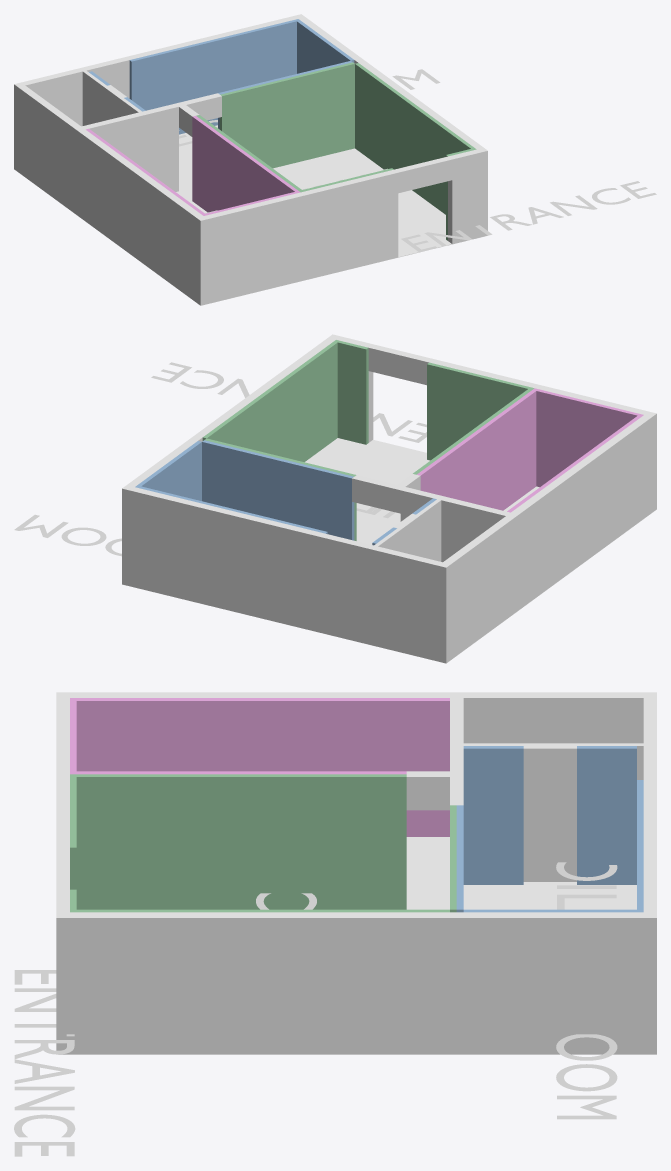
File: house.glb
3 renders of one model, top to bottom at view 1: azimuth 30°, elevation 25°; view 2: azimuth 150°, elevation 25°; view 3: azimuth 270°, elevation 25°, orthographic. The views are drawn at different scales.
Parts seen in each view (by area): view 1: Ext_Bot_KitSide, Ext_Left, Div_H_Right_Hall, Wrap_Bed_Top, Wrap_Hall_Right, Floor, Div_V_Bot_Kit, Div_H_Kit_Toilet, Ext_Top, Ext_Bot_HallSide, Text.004, Wrap_Bed_Right (+6 smaller); view 2: Ext_Top, Ext_Left, Div_H_Right_Bed, Wrap_Hall_Right, Div_V_Bot_Kit, Floor, Wrap_Kit_Bot, Wrap_Hall_Bot1, Div_H_Kit_Toilet, Wrap_Hall_Bot2, Ext_Right, Div_V_Top_Toilet (+12 smaller); view 3: Ext_Right, Div_V_Bot_Hall, Wrap_Kit_Left, Ext_Left, Div_V_Top_Bed, Div_V_Top_Bed_2, Floor, Div_V_Top_Toilet, Ext_Top, Text.004, Ext_Bot_HallSide, Ext_Bot_KitSide (+12 smaller).
Boxes of the visible parts, x1=… form: Ext_Bot_KitSide: x1=196, y1=169, x2=398, y2=305; Ext_Left: x1=14, y1=82, x2=207, y2=305; Div_H_Right_Hall: x1=220, y1=62, x2=354, y2=168; Wrap_Bed_Top: x1=129, y1=20, x2=296, y2=134; Wrap_Hall_Right: x1=355, y1=63, x2=474, y2=214; Floor: x1=14, y1=125, x2=487, y2=305; Div_V_Bot_Kit: x1=192, y1=116, x2=300, y2=212; Div_H_Kit_Toilet: x1=81, y1=103, x2=178, y2=191; Ext_Top: x1=14, y1=14, x2=304, y2=170; Ext_Bot_HallSide: x1=448, y1=148, x2=487, y2=243; Text.004: x1=401, y1=181, x2=656, y2=252; Wrap_Bed_Right: x1=295, y1=19, x2=354, y2=73; Ext_Top: x1=126, y1=486, x2=450, y2=662; Ext_Left: x1=438, y1=413, x2=656, y2=662; Div_H_Right_Bed: x1=202, y1=440, x2=354, y2=540; Wrap_Hall_Right: x1=202, y1=341, x2=337, y2=462; Div_V_Bot_Kit: x1=417, y1=388, x2=538, y2=510; Floor: x1=122, y1=438, x2=656, y2=663; Wrap_Kit_Bot: x1=536, y1=389, x2=639, y2=487; Wrap_Hall_Bot1: x1=427, y1=362, x2=530, y2=460; Div_H_Kit_Toilet: x1=400, y1=487, x2=510, y2=562; Wrap_Hall_Bot2: x1=334, y1=340, x2=368, y2=444; Ext_Right: x1=122, y1=334, x2=340, y2=585; Div_V_Top_Toilet: x1=374, y1=499, x2=441, y2=561; Ext_Right: x1=63, y1=912, x2=656, y2=1053; Div_V_Bot_Hall: x1=70, y1=774, x2=406, y2=909; Wrap_Kit_Left: x1=70, y1=698, x2=449, y2=836; Ext_Left: x1=56, y1=692, x2=656, y2=743; Div_V_Top_Bed: x1=463, y1=746, x2=523, y2=884; Div_V_Top_Bed_2: x1=577, y1=746, x2=636, y2=884; Floor: x1=58, y1=837, x2=656, y2=1054; Div_V_Top_Toilet: x1=463, y1=743, x2=643, y2=881; Ext_Top: x1=643, y1=692, x2=656, y2=1053; Text.004: x1=14, y1=970, x2=75, y2=1156; Ext_Bot_HallSide: x1=56, y1=889, x2=69, y2=1053; Ext_Bot_KitSide: x1=56, y1=692, x2=69, y2=847.
Bounding box in the file's own units: 15.04 × 2.76 × 11.75.
